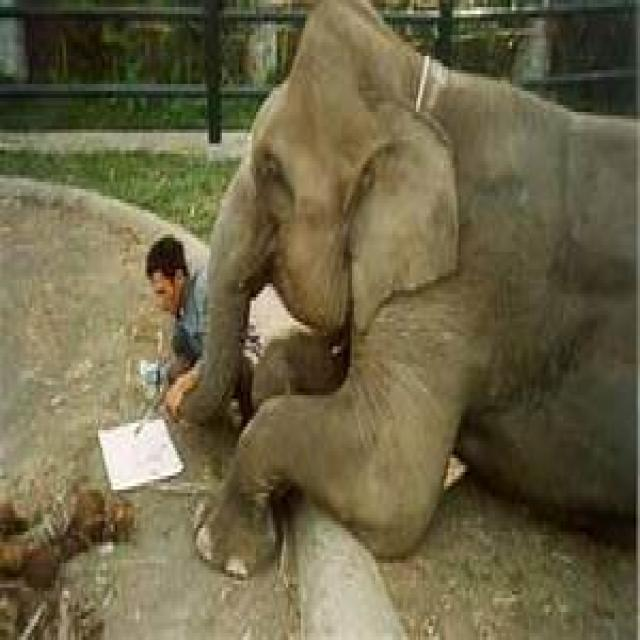elephant: (173, 0, 636, 577)
